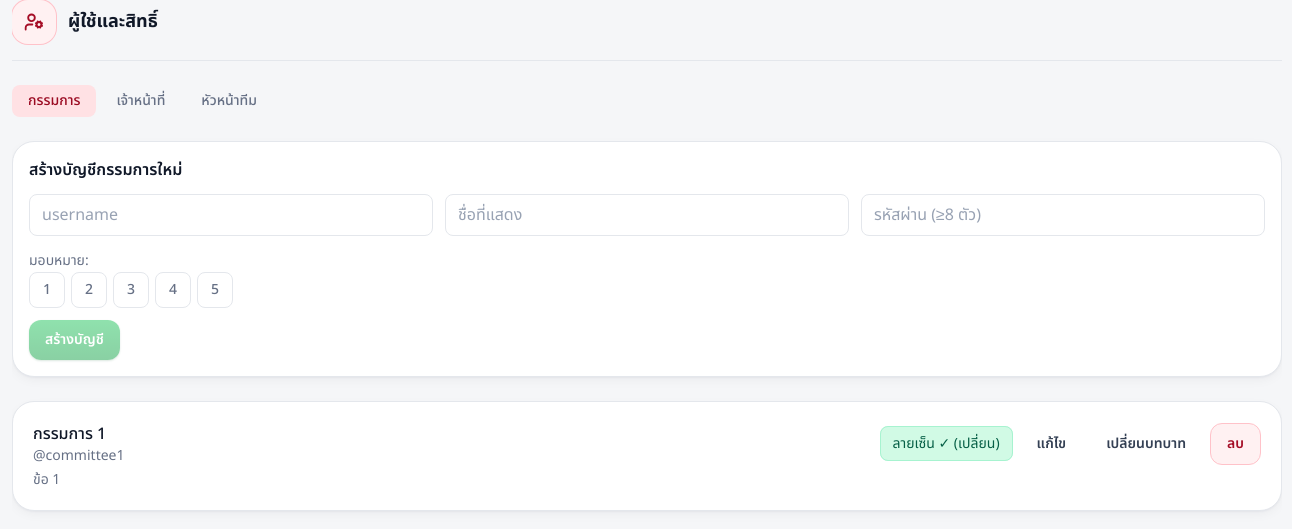
Scenario: Team leader management (create / edit / delete) › shows the create form with a school picker, disabled until everything is filled
Click the button "หัวหน้าทีม".
click(229, 101)  # box x1=185 y1=85 x2=273 y2=117
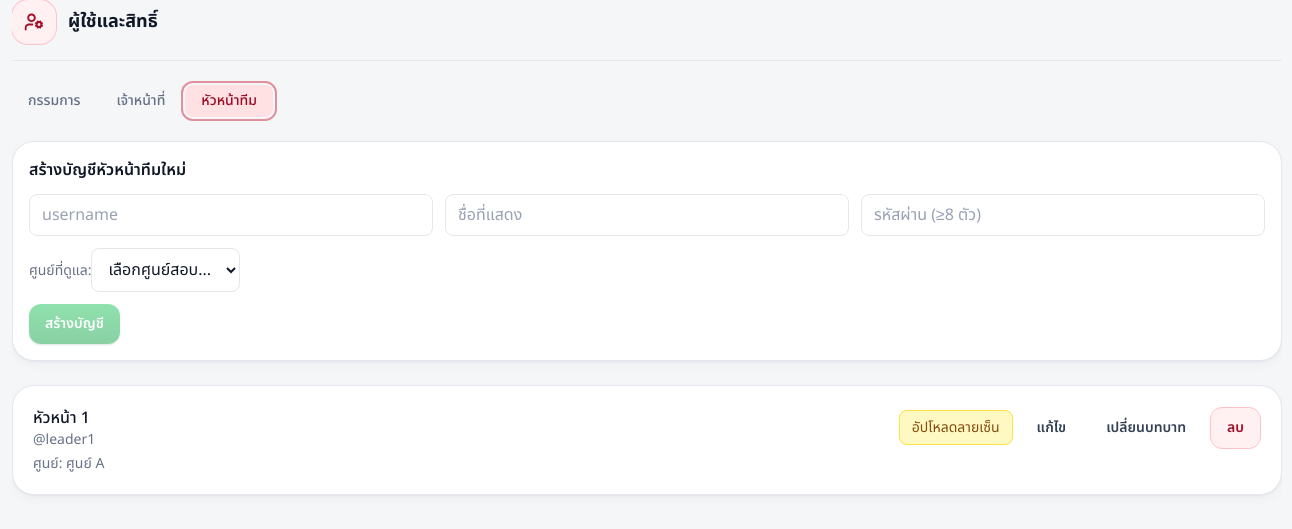
Expected: the button "สร้างบัญชี" is disabled, x1=29 y1=304 x2=120 y2=344
Result: the text "หัวหน้า 1" is shown at x1=33 y1=406 x2=95 y2=430
Result: the text "ศูนย์: ศูนย์ A" is shown at x1=33 y1=453 x2=104 y2=474
Type "tl2" into the field with placeholder "username".
click(231, 215); type("tl2")  # box x1=29 y1=194 x2=433 y2=236
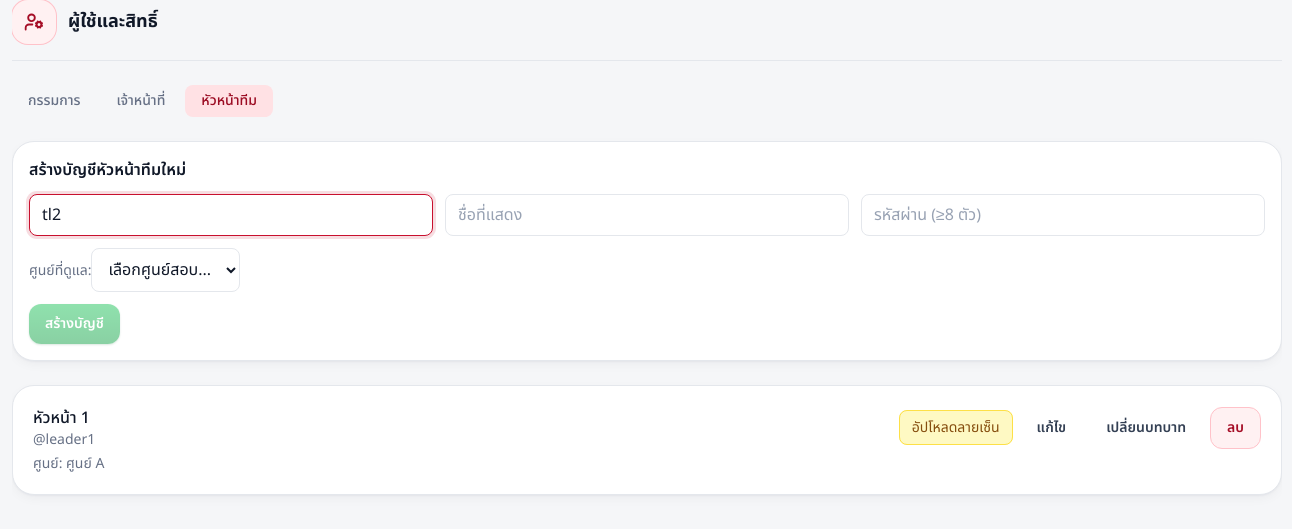
Type "หัวหน้า 2" into the field with placeholder "ชื่อที่แสดง".
click(647, 215); type("หัวหน้า 2")  # box x1=445 y1=194 x2=849 y2=236
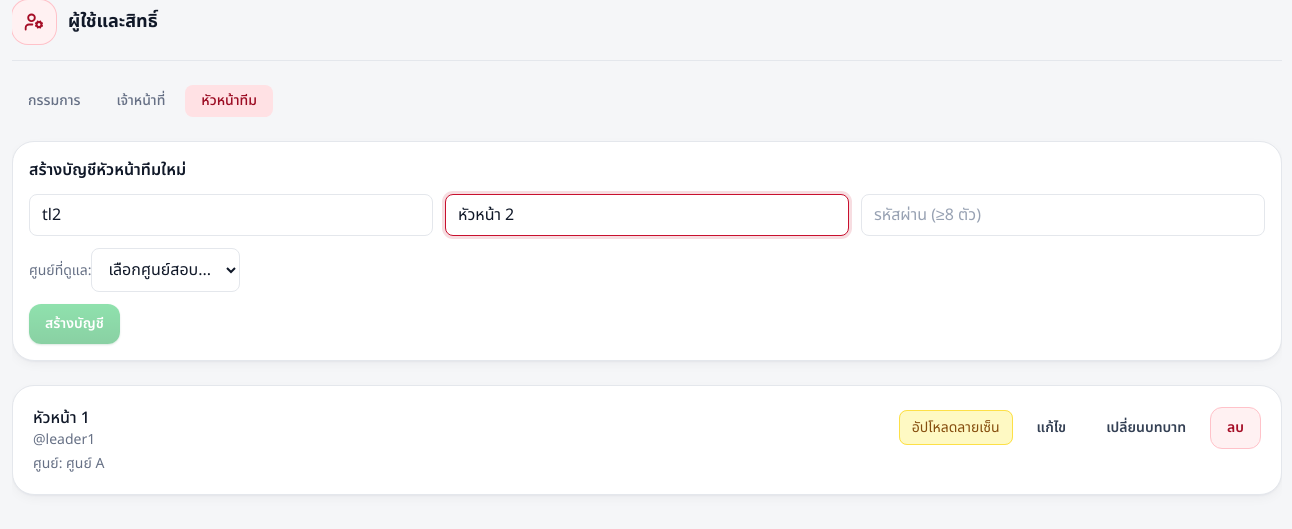
Type "password123" into the password field with placeholder "รหัสผ่าน (≥8 ตัว)".
click(1063, 215); type("password123")  # box x1=861 y1=194 x2=1265 y2=236
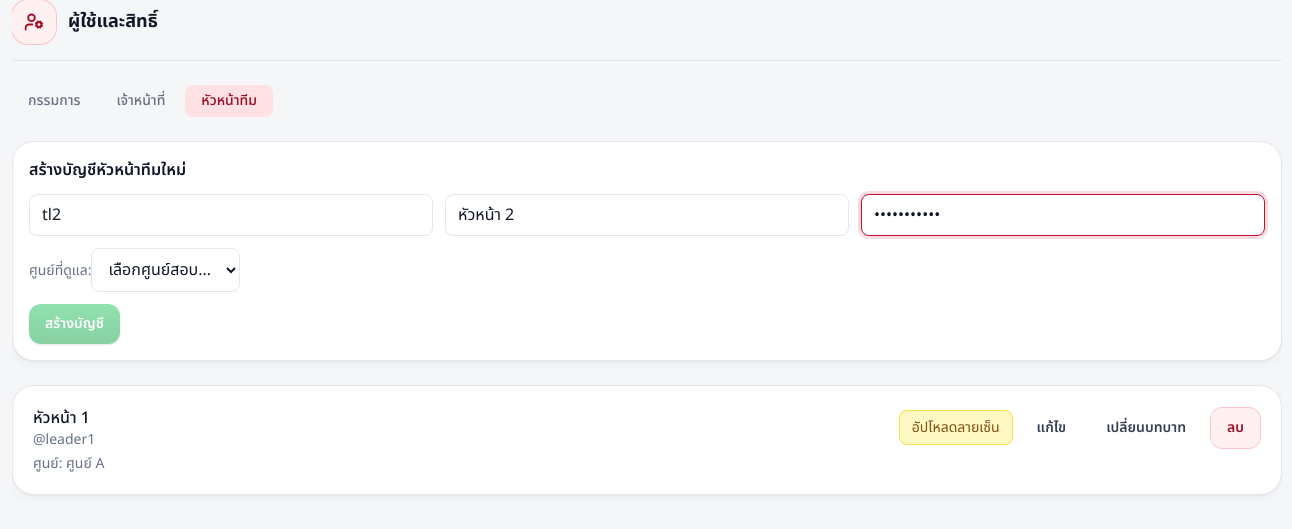
Expected: the button "สร้างบัญชี" is disabled, x1=29 y1=304 x2=120 y2=344
Select "ศูนย์ B" in the dropdown named "ศูนย์สอบ" at (166, 270), box x1=91 y1=248 x2=240 y2=292
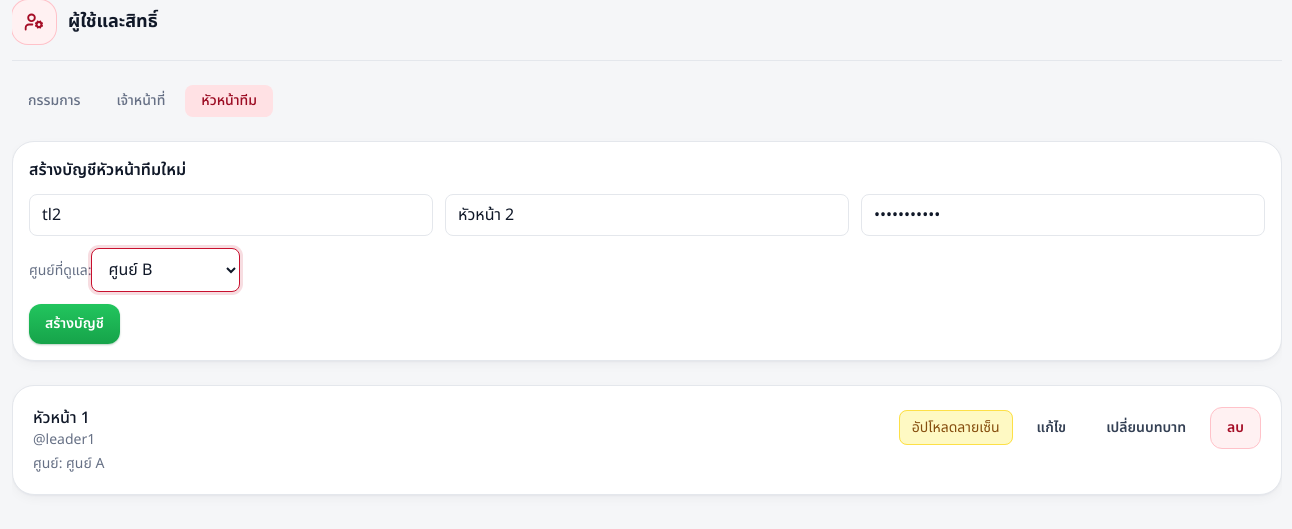
Result: the button "สร้างบัญชี" is enabled at x1=29 y1=304 x2=120 y2=344
